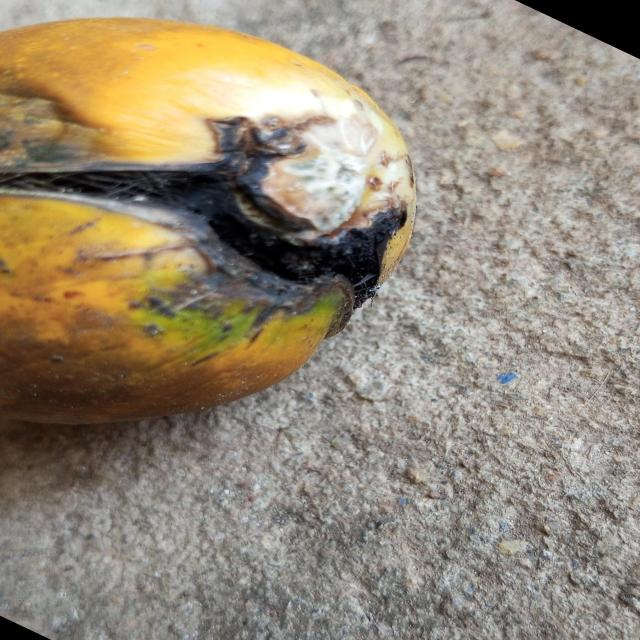damaged: (0, 17, 417, 427)
